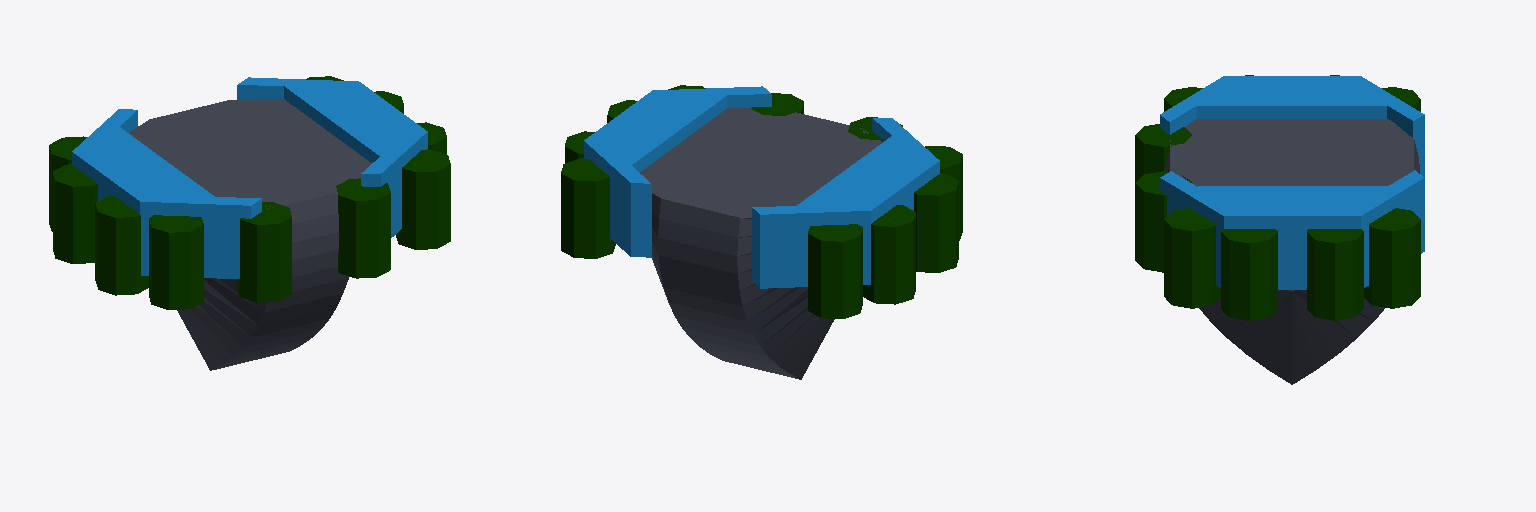
The model's file is groin.obj.
3 views of the same model, side by side, from view 1: azimuth 30°, elevation 25°; view 2: azimuth 150°, elevation 25°; view 3: azimuth 270°, elevation 25° (orthographic).
Size of the model in its own units: 1.4 by 0.85 by 1.01.